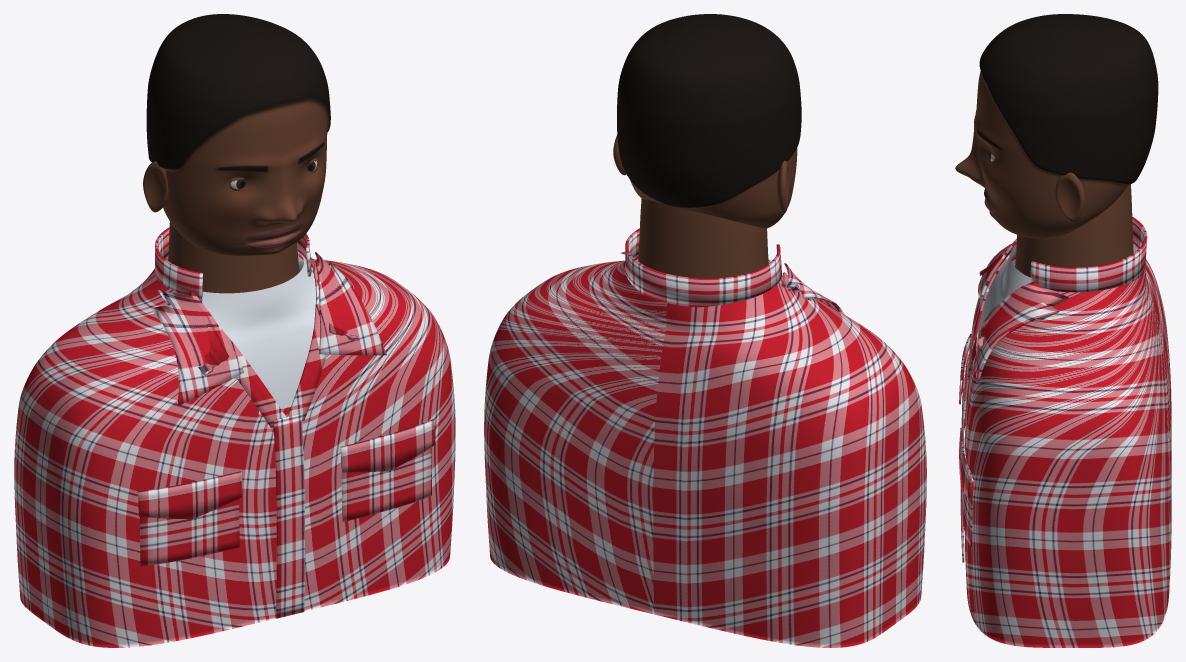
The model's file is avatar.glb.
The picture shows the model from 3 angles, left to right: view 1: azimuth 30°, elevation 25°; view 2: azimuth 150°, elevation 25°; view 3: azimuth 270°, elevation 25°; orthographic projection. The views are drawn at different scales.
Parts seen in each view (by area): view 1: Shirt, Head, Tee, Placket_C, Collar_-1, Neck, Pocket_-1, Collar_1, Pocket_1, PocketFlap_-1, PocketFlap_1, CollarStand (+3 smaller); view 2: Shirt, Head, Neck, CollarStand; view 3: Shirt, Head, Neck, CollarStand, Collar_1, Tee, Ear_R, Collar_-1, Pocket_1, PocketFlap_1, Placket_-1, Placket_C.
Part boxes in pixels (x1,y1,x2,y2): Shirt: (14, 251, 455, 647); Head: (146, 14, 330, 255); Tee: (165, 251, 315, 414); Placket_C: (273, 414, 304, 618); Collar_-1: (151, 290, 244, 405); Neck: (168, 222, 299, 293); Pocket_-1: (140, 499, 239, 566); Collar_1: (314, 252, 386, 355); Pocket_1: (341, 447, 431, 521); PocketFlap_-1: (137, 471, 242, 519); PocketFlap_1: (340, 419, 435, 472); CollarStand: (155, 227, 311, 301); Shirt: (484, 260, 926, 647); Head: (617, 14, 801, 228); Neck: (638, 198, 768, 278); CollarStand: (625, 228, 781, 307); Shirt: (964, 240, 1171, 647); Head: (955, 14, 1158, 239); Neck: (1015, 184, 1133, 277); CollarStand: (1030, 217, 1147, 292); Collar_1: (975, 281, 1069, 382); Tee: (972, 244, 1137, 369); Ear_R: (1055, 172, 1085, 223); Collar_-1: (978, 239, 1016, 300); Pocket_1: (961, 436, 973, 546); PocketFlap_1: (959, 427, 972, 497); Placket_-1: (969, 252, 1015, 373); Placket_C: (960, 359, 968, 562).
Size of the model in its own units: 0.486 by 0.6495 by 0.2393.
8 materials, 3 textured.
